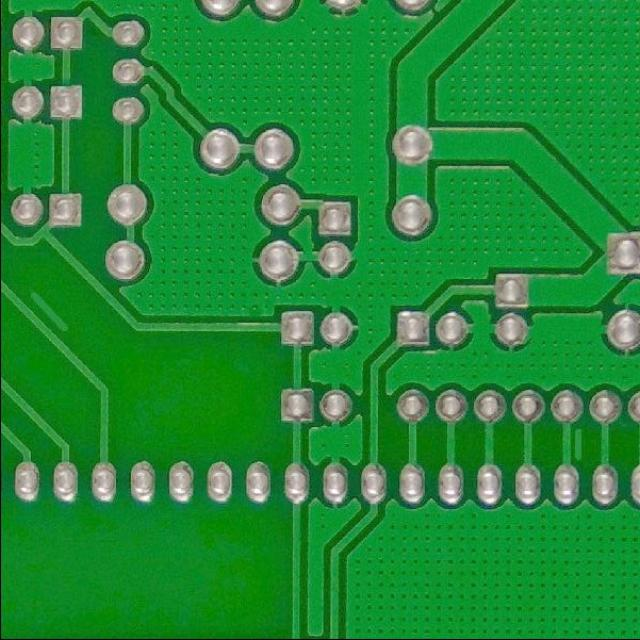Spurious_Cooper: (20, 280, 78, 338), (571, 424, 588, 462)
